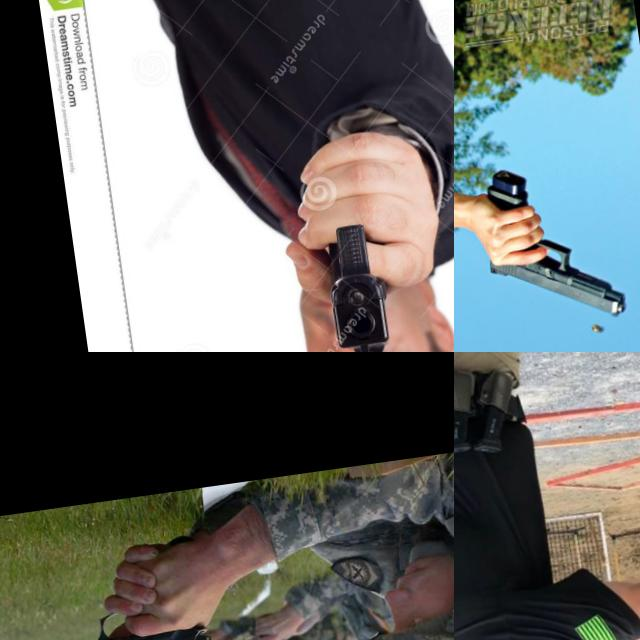handgun: (482, 225, 632, 335), (315, 217, 397, 352), (16, 594, 218, 640), (211, 630, 297, 640)
